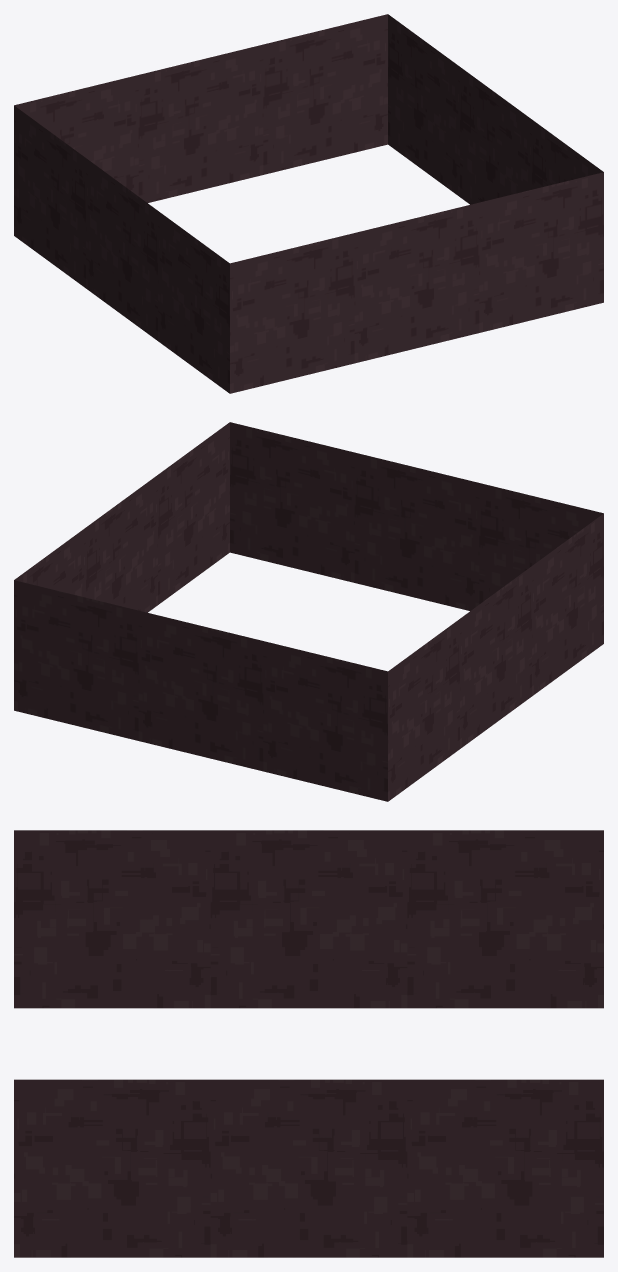
The model's file is BigWallFloor.fbx.
The picture shows the model from 3 angles, top to bottom: view 1: azimuth 30°, elevation 25°; view 2: azimuth 150°, elevation 25°; view 3: azimuth 270°, elevation 25°; orthographic projection. The views are drawn at different scales.
Visible parts, largest first — view 1: BigWallFloor; view 2: BigWallFloor; view 3: BigWallFloor.
Part boxes in pixels (x1,y1,x2,y2): BigWallFloor: [14, 14, 603, 393]; BigWallFloor: [14, 422, 603, 801]; BigWallFloor: [14, 830, 603, 1257].
Size of the model in its own units: 300 by 100 by 300.
